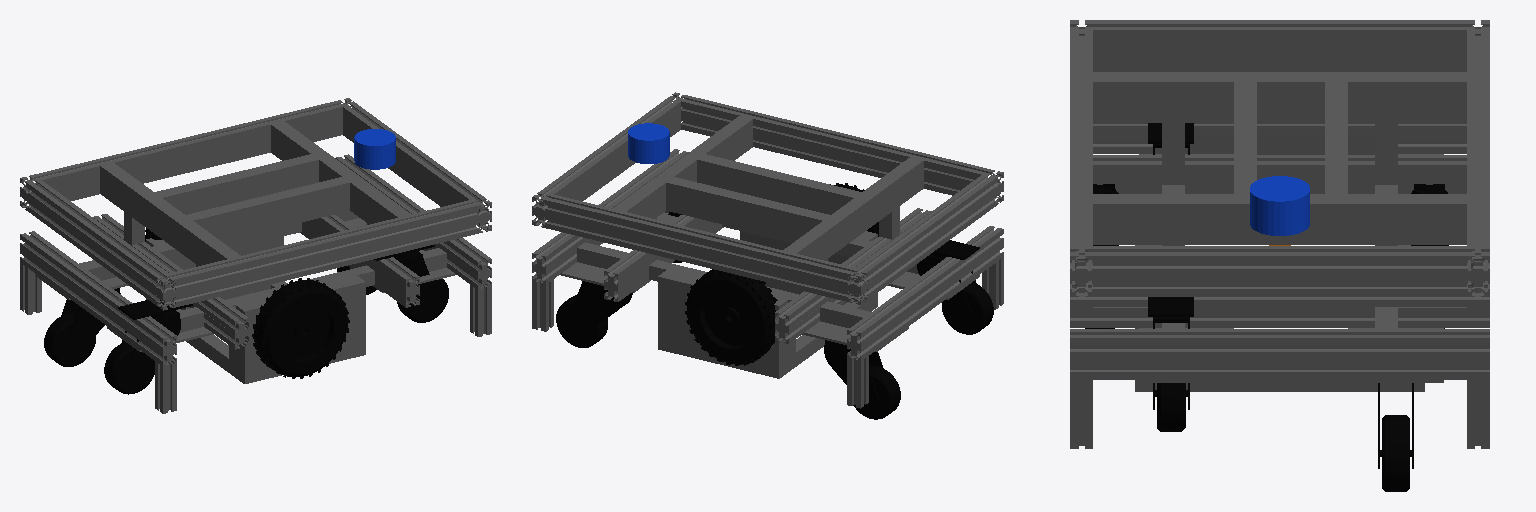
The robot description file, URDF, robot "amr_robot":
<?xml version="1.0" ?>
<!-- =================================================================================== -->
<!-- |    This document was autogenerated by xacro from C:\Users\thitr\OneDrive\Documents\GitHub\fleet-management-system\ros2_ws\src\robot_description\urdf\robot.urdf.xacro | -->
<!-- |    EDITING THIS FILE BY HAND IS NOT RECOMMENDED                                 | -->
<!-- =================================================================================== -->
<!-- =========================================================================
     robot.urdf.xacro  FILE CHINH (top-level)
     AMR differential-drive: 2 banh chinh co motor + 4 banh phu tu do.
     Cay frame chuan Nav2:
       base_footprint -> base_link -> (wheels, casters, lidar, imu)
     Build: xacro robot.urdf.xacro use_sim:=true > robot.urdf
     ========================================================================= -->
<robot name="amr_robot">
  <!-- UOC LUONG: doi theo can that -->
  <material name="grey">
    <color rgba="0.4 0.4 0.4 1.0"/>
  </material>
  <material name="dark_grey">
    <color rgba="0.2 0.2 0.2 1.0"/>
  </material>
  <material name="orange">
    <color rgba="0.9 0.5 0.1 1.0"/>
  </material>
  <material name="black">
    <color rgba="0.05 0.05 0.05 1.0"/>
  </material>
  <material name="blue">
    <color rgba="0.1 0.3 0.8 1.0"/>
  </material>
  <material name="white">
    <color rgba="0.9 0.9 0.9 1.0"/>
  </material>
  <link name="lidar_link">
    <visual>
      <geometry>
        <cylinder length="0.05" radius="0.04"/>
      </geometry>
      <material name="blue"/>
    </visual>
    <collision>
      <geometry>
        <cylinder length="0.05" radius="0.04"/>
      </geometry>
    </collision>
    <inertial>
      <mass value="0.2"/>
      <inertia ixx="0.00012166666666666667" ixy="0.0" ixz="0.0" iyy="0.00012166666666666667" iyz="0.0" izz="0.00016"/>
    </inertial>
  </link>
  <joint name="lidar_joint" type="fixed">
    <parent link="base_link"/>
    <child link="lidar_link"/>
    <origin rpy="0 0 0" xyz="0.265 0 0.1775"/>
  </joint>
  <gazebo reference="lidar_link">
    <material>Gazebo/Blue</material>
    <sensor name="lidar" type="ray">
      <pose>0 0 0 0 0 0</pose>
      <visualize>true</visualize>
      <update_rate>10</update_rate>
      <ray>
        <scan>
          <horizontal>
            <samples>360</samples>
            <resolution>1.0</resolution>
            <min_angle>-3.141592</min_angle>
            <max_angle>3.141592</max_angle>
          </horizontal>
        </scan>
        <range>
          <min>0.12</min>
          <max>12.0</max>
          <resolution>0.01</resolution>
        </range>
        <noise>
          <type>gaussian</type>
          <mean>0.0</mean>
          <stddev>0.01</stddev>
        </noise>
      </ray>
      <plugin filename="libgazebo_ros_ray_sensor.so" name="lidar_controller">
        <ros>
          <remapping>~/out:=scan</remapping>
        </ros>
        <output_type>sensor_msgs/LaserScan</output_type>
        <frame_name>lidar_link</frame_name>
      </plugin>
    </sensor>
  </gazebo>
  <!-- ============================== IMU =============================== -->
  <link name="imu_link">
    <visual>
      <geometry>
        <box size="0.03 0.03 0.01"/>
      </geometry>
      <material name="orange"/>
    </visual>
    <inertial>
      <mass value="0.05"/>
      <inertia ixx="4.166666666666667e-06" ixy="0.0" ixz="0.0" iyy="4.166666666666667e-06" iyz="0.0" izz="7.499999999999999e-06"/>
    </inertial>
  </link>
  <joint name="imu_joint" type="fixed">
    <parent link="base_link"/>
    <child link="imu_link"/>
    <origin rpy="0 0 0" xyz="0 0 0"/>
  </joint>
  <gazebo reference="imu_link">
    <sensor name="imu_sensor" type="imu">
      <always_on>true</always_on>
      <update_rate>100</update_rate>
      <plugin filename="libgazebo_ros_imu_sensor.so" name="imu_plugin">
        <ros>
          <remapping>~/out:=imu/data</remapping>
        </ros>
        <initial_orientation_as_reference>false</initial_orientation_as_reference>
      </plugin>
    </sensor>
  </gazebo>
  <!-- ===== base_footprint (cho Nav2/odom) ===== -->
  <link name="base_footprint"/>
  <joint name="base_joint" type="fixed">
    <parent link="base_footprint"/>
    <child link="base_link"/>
    <origin rpy="0 0 0" xyz="0 0 0.20478"/>
  </joint>
  <!-- ===== base_link (than xe) ===== -->
  <link name="base_link">
    <!-- Mesh goc tu CAD; scale mm -> m va doi truc CAD -> ROS. -->
    <visual>
      <origin rpy="1.57079632679 0 1.57079632679" xyz="-1.674842 -0.764810 -1.092814"/>
      <geometry>
        <mesh filename="package://robot_description/meshes/chassis.stl" scale="0.001 0.001 0.001"/>
      </geometry>
      <material name="grey"/>
    </visual>
    <collision>
      <origin rpy="1.57079632679 0 1.57079632679" xyz="-1.674842 -0.764810 -1.092814"/>
      <geometry>
        <mesh filename="package://robot_description/meshes/chassis.stl" scale="0.001 0.001 0.001"/>
      </geometry>
    </collision>
    <inertial>
      <mass value="40.0"/>
      <inertia ixx="1.3184166666666668" ixy="0.0" ixz="0.0" iyy="2.0864166666666666" iyz="0.0" izz="2.7846666666666664"/>
    </inertial>
  </link>
  <gazebo reference="base_link">
    <material>Gazebo/Grey</material>
  </gazebo>
  <link name="left_wheel_link">
    <visual>
      <origin rpy="1.57079632679 0 1.57079632679" xyz="-1.674844 -0.98106 -0.985314"/>
      <geometry>
        <mesh filename="package://robot_description/meshes/left_drive_wheel.stl" scale="0.001 0.001 0.001"/>
      </geometry>
      <material name="black"/>
    </visual>
    <collision>
      <origin rpy="1.57079632679 0 1.57079632679" xyz="-1.674844 -0.98106 -0.985314"/>
      <geometry>
        <mesh filename="package://robot_description/meshes/left_drive_wheel.stl" scale="0.001 0.001 0.001"/>
      </geometry>
    </collision>
    <inertial>
      <mass value="2.0"/>
      <inertia ixx="0.005145447916666667" ixy="0.0" ixz="0.0" iyy="0.005145447916666667" iyz="0.0" izz="0.0094575625"/>
    </inertial>
  </link>
  <!-- joint quay liên tục quanh trục Y của bánh -->
  <joint name="left_wheel_joint" type="continuous">
    <parent link="base_link"/>
    <child link="left_wheel_link"/>
    <!-- Vi tri tam banh lay tu CAD -->
    <origin rpy="0 0 0" xyz="0.0 0.21625 -0.10753"/>
    <axis xyz="0 1 0"/>
    <limit effort="100.0" velocity="20.0"/>
    <dynamics damping="0.05" friction="0.1"/>
  </joint>
  <!-- thuộc tính Gazebo cho bánh: ma sát cao để không trượt -->
  <gazebo reference="left_wheel_link">
    <mu1>1.0</mu1>
    <mu2>1.0</mu2>
    <kp>1000000.0</kp>
    <kd>100.0</kd>
    <material>Gazebo/Black</material>
  </gazebo>
  <link name="right_wheel_link">
    <visual>
      <origin rpy="1.57079632679 0 1.57079632679" xyz="-1.674844 -0.54856 -0.985314"/>
      <geometry>
        <mesh filename="package://robot_description/meshes/right_drive_wheel.stl" scale="0.001 0.001 0.001"/>
      </geometry>
      <material name="black"/>
    </visual>
    <collision>
      <origin rpy="1.57079632679 0 1.57079632679" xyz="-1.674844 -0.54856 -0.985314"/>
      <geometry>
        <mesh filename="package://robot_description/meshes/right_drive_wheel.stl" scale="0.001 0.001 0.001"/>
      </geometry>
    </collision>
    <inertial>
      <mass value="2.0"/>
      <inertia ixx="0.005145447916666667" ixy="0.0" ixz="0.0" iyy="0.005145447916666667" iyz="0.0" izz="0.0094575625"/>
    </inertial>
  </link>
  <!-- joint quay liên tục quanh trục Y của bánh -->
  <joint name="right_wheel_joint" type="continuous">
    <parent link="base_link"/>
    <child link="right_wheel_link"/>
    <!-- Vi tri tam banh lay tu CAD -->
    <origin rpy="0 0 0" xyz="0.0 -0.21625 -0.10753"/>
    <axis xyz="0 1 0"/>
    <limit effort="100.0" velocity="20.0"/>
    <dynamics damping="0.05" friction="0.1"/>
  </joint>
  <!-- thuộc tính Gazebo cho bánh: ma sát cao để không trượt -->
  <gazebo reference="right_wheel_link">
    <mu1>1.0</mu1>
    <mu2>1.0</mu2>
    <kp>1000000.0</kp>
    <kd>100.0</kd>
    <material>Gazebo/Black</material>
  </gazebo>
  <link name="front_left_caster_link">
    <visual>
      <origin rpy="1.57079632679 0 1.57079632679" xyz="-1.964838 -0.917062 -0.974809"/>
      <geometry>
        <mesh filename="package://robot_description/meshes/front_left_caster.stl" scale="0.001 0.001 0.001"/>
      </geometry>
      <material name="black"/>
    </visual>
    <collision>
      <origin rpy="1.57079632679 0 1.57079632679" xyz="-1.964838 -0.917062 -0.974809"/>
      <geometry>
        <mesh filename="package://robot_description/meshes/front_left_caster.stl" scale="0.001 0.001 0.001"/>
      </geometry>
    </collision>
    <inertial>
      <mass value="0.5"/>
      <inertia ixx="0.0014620500000000001" ixy="0.0" ixz="0.0" iyy="0.0014620500000000001" iyz="0.0" izz="0.0014620500000000001"/>
    </inertial>
  </link>
  <!-- fixed joint: chi mo phong hinh dang va tiep xuc, chua co swivel joint -->
  <joint name="front_left_caster_joint" type="fixed">
    <parent link="base_link"/>
    <child link="front_left_caster_link"/>
    <origin rpy="0 0 0" xyz="0.29 0.15225 -0.118005"/>
  </joint>
  <!-- Ma sat thap de banh phu khong keo le robot qua nhieu. -->
  <gazebo reference="front_left_caster_link">
    <mu1>0.0</mu1>
    <mu2>0.0</mu2>
    <kp>1000000.0</kp>
    <kd>100.0</kd>
    <material>Gazebo/Grey</material>
  </gazebo>
  <link name="front_right_caster_link">
    <visual>
      <origin rpy="1.57079632679 0 1.57079632679" xyz="-1.964857 -0.642145 -0.974809"/>
      <geometry>
        <mesh filename="package://robot_description/meshes/front_right_caster.stl" scale="0.001 0.001 0.001"/>
      </geometry>
      <material name="black"/>
    </visual>
    <collision>
      <origin rpy="1.57079632679 0 1.57079632679" xyz="-1.964857 -0.642145 -0.974809"/>
      <geometry>
        <mesh filename="package://robot_description/meshes/front_right_caster.stl" scale="0.001 0.001 0.001"/>
      </geometry>
    </collision>
    <inertial>
      <mass value="0.5"/>
      <inertia ixx="0.0014620500000000001" ixy="0.0" ixz="0.0" iyy="0.0014620500000000001" iyz="0.0" izz="0.0014620500000000001"/>
    </inertial>
  </link>
  <!-- fixed joint: chi mo phong hinh dang va tiep xuc, chua co swivel joint -->
  <joint name="front_right_caster_joint" type="fixed">
    <parent link="base_link"/>
    <child link="front_right_caster_link"/>
    <origin rpy="0 0 0" xyz="0.29 -0.12275 -0.118005"/>
  </joint>
  <!-- Ma sat thap de banh phu khong keo le robot qua nhieu. -->
  <gazebo reference="front_right_caster_link">
    <mu1>0.0</mu1>
    <mu2>0.0</mu2>
    <kp>1000000.0</kp>
    <kd>100.0</kd>
    <material>Gazebo/Grey</material>
  </gazebo>
  <link name="rear_left_caster_link">
    <visual>
      <origin rpy="1.57079632679 0 1.57079632679" xyz="-1.384831 -0.917062 -0.974809"/>
      <geometry>
        <mesh filename="package://robot_description/meshes/rear_left_caster.stl" scale="0.001 0.001 0.001"/>
      </geometry>
      <material name="black"/>
    </visual>
    <collision>
      <origin rpy="1.57079632679 0 1.57079632679" xyz="-1.384831 -0.917062 -0.974809"/>
      <geometry>
        <mesh filename="package://robot_description/meshes/rear_left_caster.stl" scale="0.001 0.001 0.001"/>
      </geometry>
    </collision>
    <inertial>
      <mass value="0.5"/>
      <inertia ixx="0.0014620500000000001" ixy="0.0" ixz="0.0" iyy="0.0014620500000000001" iyz="0.0" izz="0.0014620500000000001"/>
    </inertial>
  </link>
  <!-- fixed joint: chi mo phong hinh dang va tiep xuc, chua co swivel joint -->
  <joint name="rear_left_caster_joint" type="fixed">
    <parent link="base_link"/>
    <child link="rear_left_caster_link"/>
    <origin rpy="0 0 0" xyz="-0.29 0.15225 -0.118005"/>
  </joint>
  <!-- Ma sat thap de banh phu khong keo le robot qua nhieu. -->
  <gazebo reference="rear_left_caster_link">
    <mu1>0.0</mu1>
    <mu2>0.0</mu2>
    <kp>1000000.0</kp>
    <kd>100.0</kd>
    <material>Gazebo/Grey</material>
  </gazebo>
  <link name="rear_right_caster_link">
    <visual>
      <origin rpy="1.57079632679 0 1.57079632679" xyz="-1.384831 -0.642062 -0.974809"/>
      <geometry>
        <mesh filename="package://robot_description/meshes/rear_right_caster.stl" scale="0.001 0.001 0.001"/>
      </geometry>
      <material name="black"/>
    </visual>
    <collision>
      <origin rpy="1.57079632679 0 1.57079632679" xyz="-1.384831 -0.642062 -0.974809"/>
      <geometry>
        <mesh filename="package://robot_description/meshes/rear_right_caster.stl" scale="0.001 0.001 0.001"/>
      </geometry>
    </collision>
    <inertial>
      <mass value="0.5"/>
      <inertia ixx="0.0014620500000000001" ixy="0.0" ixz="0.0" iyy="0.0014620500000000001" iyz="0.0" izz="0.0014620500000000001"/>
    </inertial>
  </link>
  <!-- fixed joint: chi mo phong hinh dang va tiep xuc, chua co swivel joint -->
  <joint name="rear_right_caster_joint" type="fixed">
    <parent link="base_link"/>
    <child link="rear_right_caster_link"/>
    <origin rpy="0 0 0" xyz="-0.29 -0.12275 -0.118005"/>
  </joint>
  <!-- Ma sat thap de banh phu khong keo le robot qua nhieu. -->
  <gazebo reference="rear_right_caster_link">
    <mu1>0.0</mu1>
    <mu2>0.0</mu2>
    <kp>1000000.0</kp>
    <kd>100.0</kd>
    <material>Gazebo/Grey</material>
  </gazebo>
  <ros2_control name="AMRSystem" type="system">
    <hardware>
      <!-- ===== MO PHONG (Gazebo Classic) ===== -->
      <plugin>gazebo_ros2_control/GazeboSystem</plugin>
    </hardware>
    <!-- Banh trai -->
    <joint name="left_wheel_joint">
      <command_interface name="velocity">
        <param name="min">-20.0</param>
        <param name="max">20.0</param>
      </command_interface>
      <state_interface name="velocity"/>
      <state_interface name="position"/>
    </joint>
    <!-- Banh phai -->
    <joint name="right_wheel_joint">
      <command_interface name="velocity">
        <param name="min">-20.0</param>
        <param name="max">20.0</param>
      </command_interface>
      <state_interface name="velocity"/>
      <state_interface name="position"/>
    </joint>
  </ros2_control>
  <gazebo>
    <plugin filename="libgazebo_ros2_control.so" name="gazebo_ros2_control">
      <robot_param>robot_description</robot_param>
      <robot_param_node>robot_state_publisher</robot_param_node>
      <parameters>C:\Users\thitr\OneDrive\Documents\GitHub\fleet-management-system\ros2_ws\src\robot_description/config/diff_drive_controller.yaml</parameters>
    </plugin>
  </gazebo>
</robot>

--- What the picture shows (computed from the rendered views, not written in the file) ---
The picture shows the robot from 3 angles, left to right: view 1: azimuth 30°, elevation 25°; view 2: azimuth 150°, elevation 25°; view 3: azimuth 270°, elevation 25°; orthographic projection.
Model amr_robot with 10 links and 9 joints (2 continuous, 7 fixed), rooted at base_footprint, posed every joint at zero.
Visible links, largest first — view 1: base_link, right_wheel_link, rear_right_caster_link, rear_left_caster_link, front_right_caster_link, lidar_link; view 2: base_link, left_wheel_link, front_left_caster_link, rear_right_caster_link, rear_left_caster_link, lidar_link; view 3: base_link, lidar_link, front_right_caster_link, front_left_caster_link, rear_right_caster_link.
Link boxes in pixels (x1,y1,x2,y2): base_link: (20,98,491,413); right_wheel_link: (252,278,349,378); rear_right_caster_link: (104,300,192,394); rear_left_caster_link: (44,288,120,366); front_right_caster_link: (374,245,448,322); lidar_link: (354,129,395,169); base_link: (532,92,1003,408); left_wheel_link: (685,269,777,365); front_left_caster_link: (556,281,632,347); rear_right_caster_link: (917,240,993,334); rear_left_caster_link: (824,340,900,419); lidar_link: (628,123,669,163); base_link: (1070,20,1489,448); lidar_link: (1250,176,1309,235); front_right_caster_link: (1148,297,1193,431); front_left_caster_link: (1378,383,1413,491); rear_right_caster_link: (1148,123,1193,154).
Bounding box of the posed robot: 0.7873 × 0.55 × 0.405 m (x, y, z).
7 mesh visuals loaded from 7 distinct referenced files (7 binary STL).
